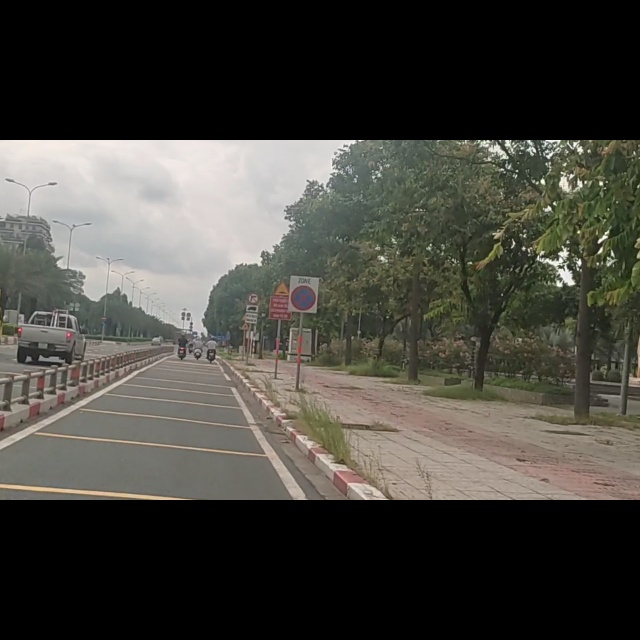bien_nguy_hiem: (288, 239, 319, 308), (245, 292, 259, 328), (247, 273, 259, 293)
